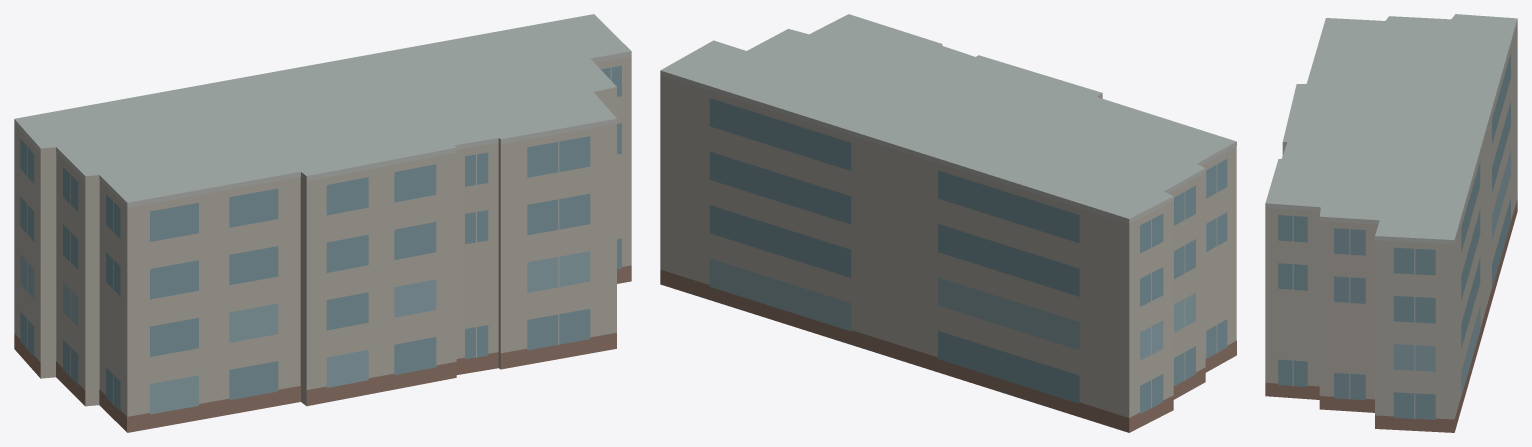
File: survey-upis-32600624.glb
3 views of the same model, side by side, from view 1: azimuth 30°, elevation 25°; view 2: azimuth 150°, elevation 25°; view 3: azimuth 270°, elevation 25° (orthographic). The views are drawn at different scales.
Visible parts, largest first — view 1: survey-upis-32600624.tmp; view 2: survey-upis-32600624.tmp; view 3: survey-upis-32600624.tmp.
Boxes of the visible parts, x1,y1,x2,y2 form: survey-upis-32600624.tmp: (14, 14, 631, 432); survey-upis-32600624.tmp: (660, 14, 1236, 432); survey-upis-32600624.tmp: (1265, 14, 1517, 432).
Size of the model in its own units: 27.92 by 11.1 by 13.17.
